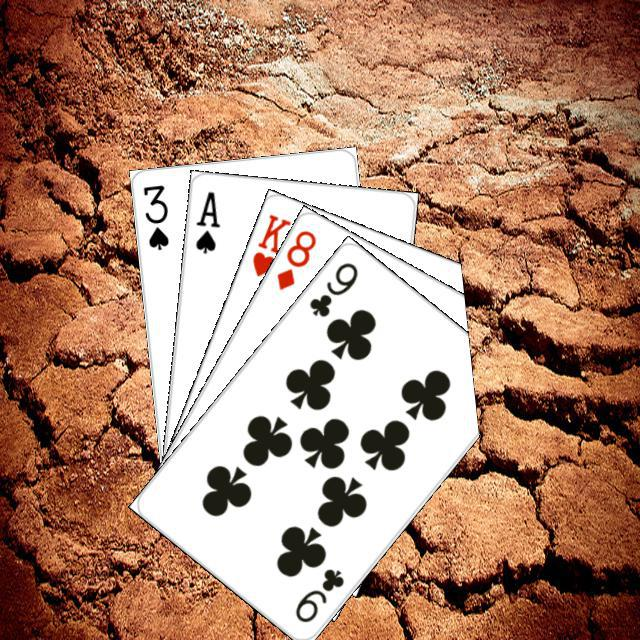3s: (138, 180, 171, 252)
8d: (271, 225, 318, 292)
9c: (304, 257, 360, 319), (290, 563, 346, 625)
As: (190, 186, 222, 255)
Kh: (247, 209, 297, 290)
